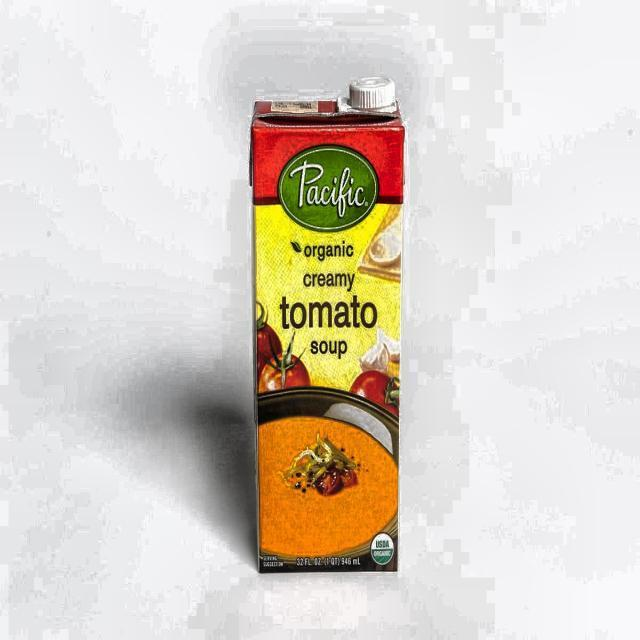cardboard: (249, 91, 404, 574)
